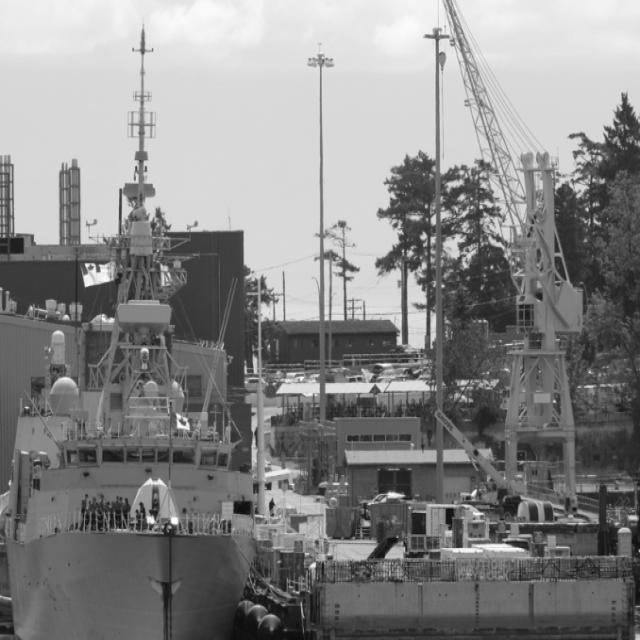Fragata: (1, 1, 267, 640)
